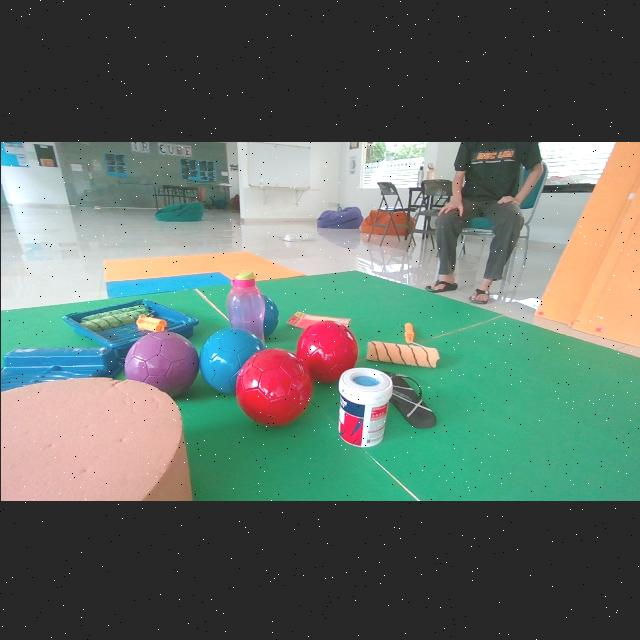B: (198, 326, 263, 392), (262, 293, 277, 335)
P: (123, 330, 198, 395)
R: (235, 346, 312, 424), (295, 318, 358, 381)
